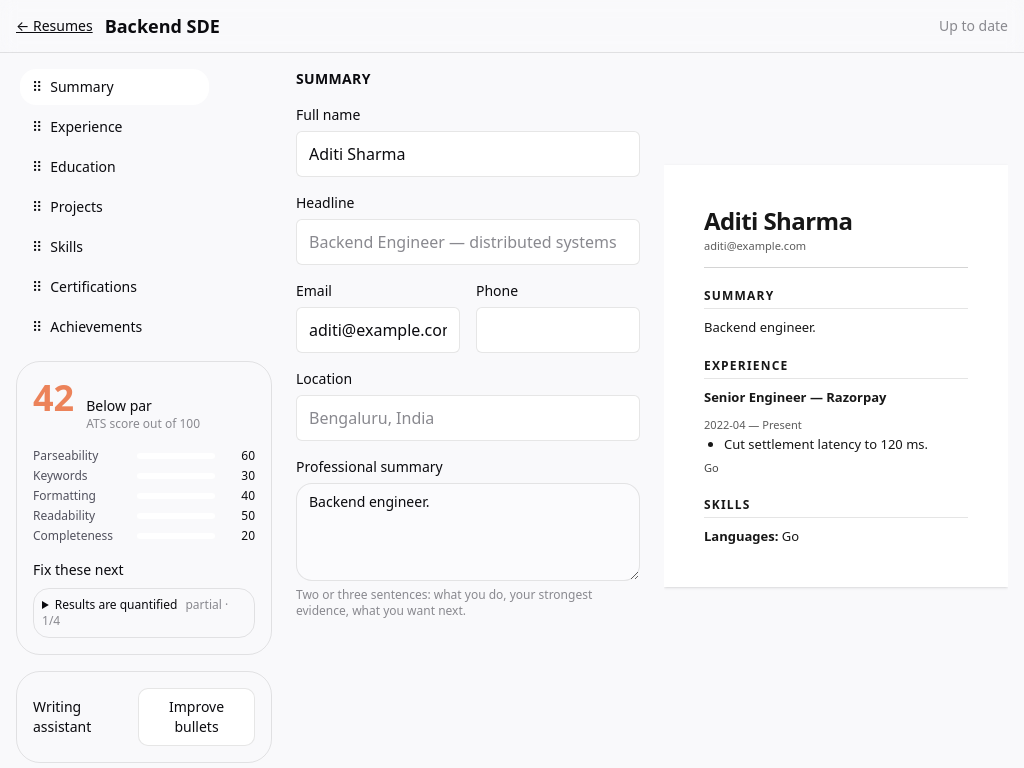
editing › updates the preview as the user types, without a save
The width and height of the screenshot is (1024, 768).
Check: the heading "Backend SDE" is shown, box x1=105 y1=12 x2=220 y2=40
Replace the text in the field labelled "Full name" with "Rohan Mehta" at (468, 154), box x1=296 y1=131 x2=640 y2=177
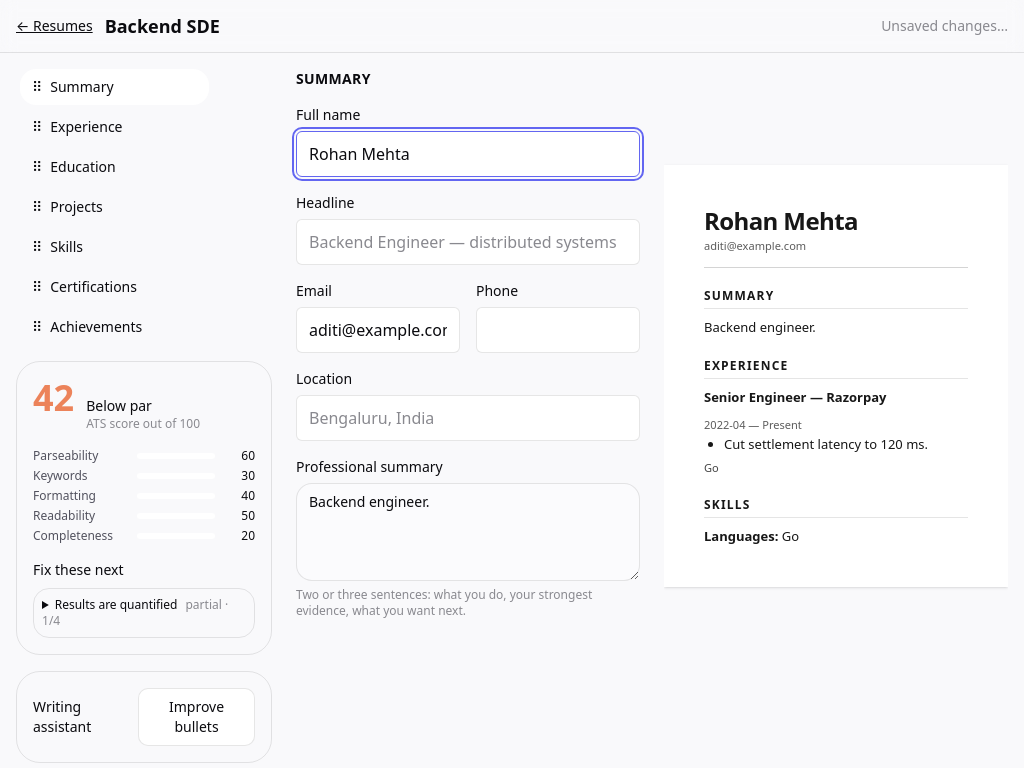
Check: the heading "Rohan Mehta" is shown, box x1=704 y1=204 x2=858 y2=237
